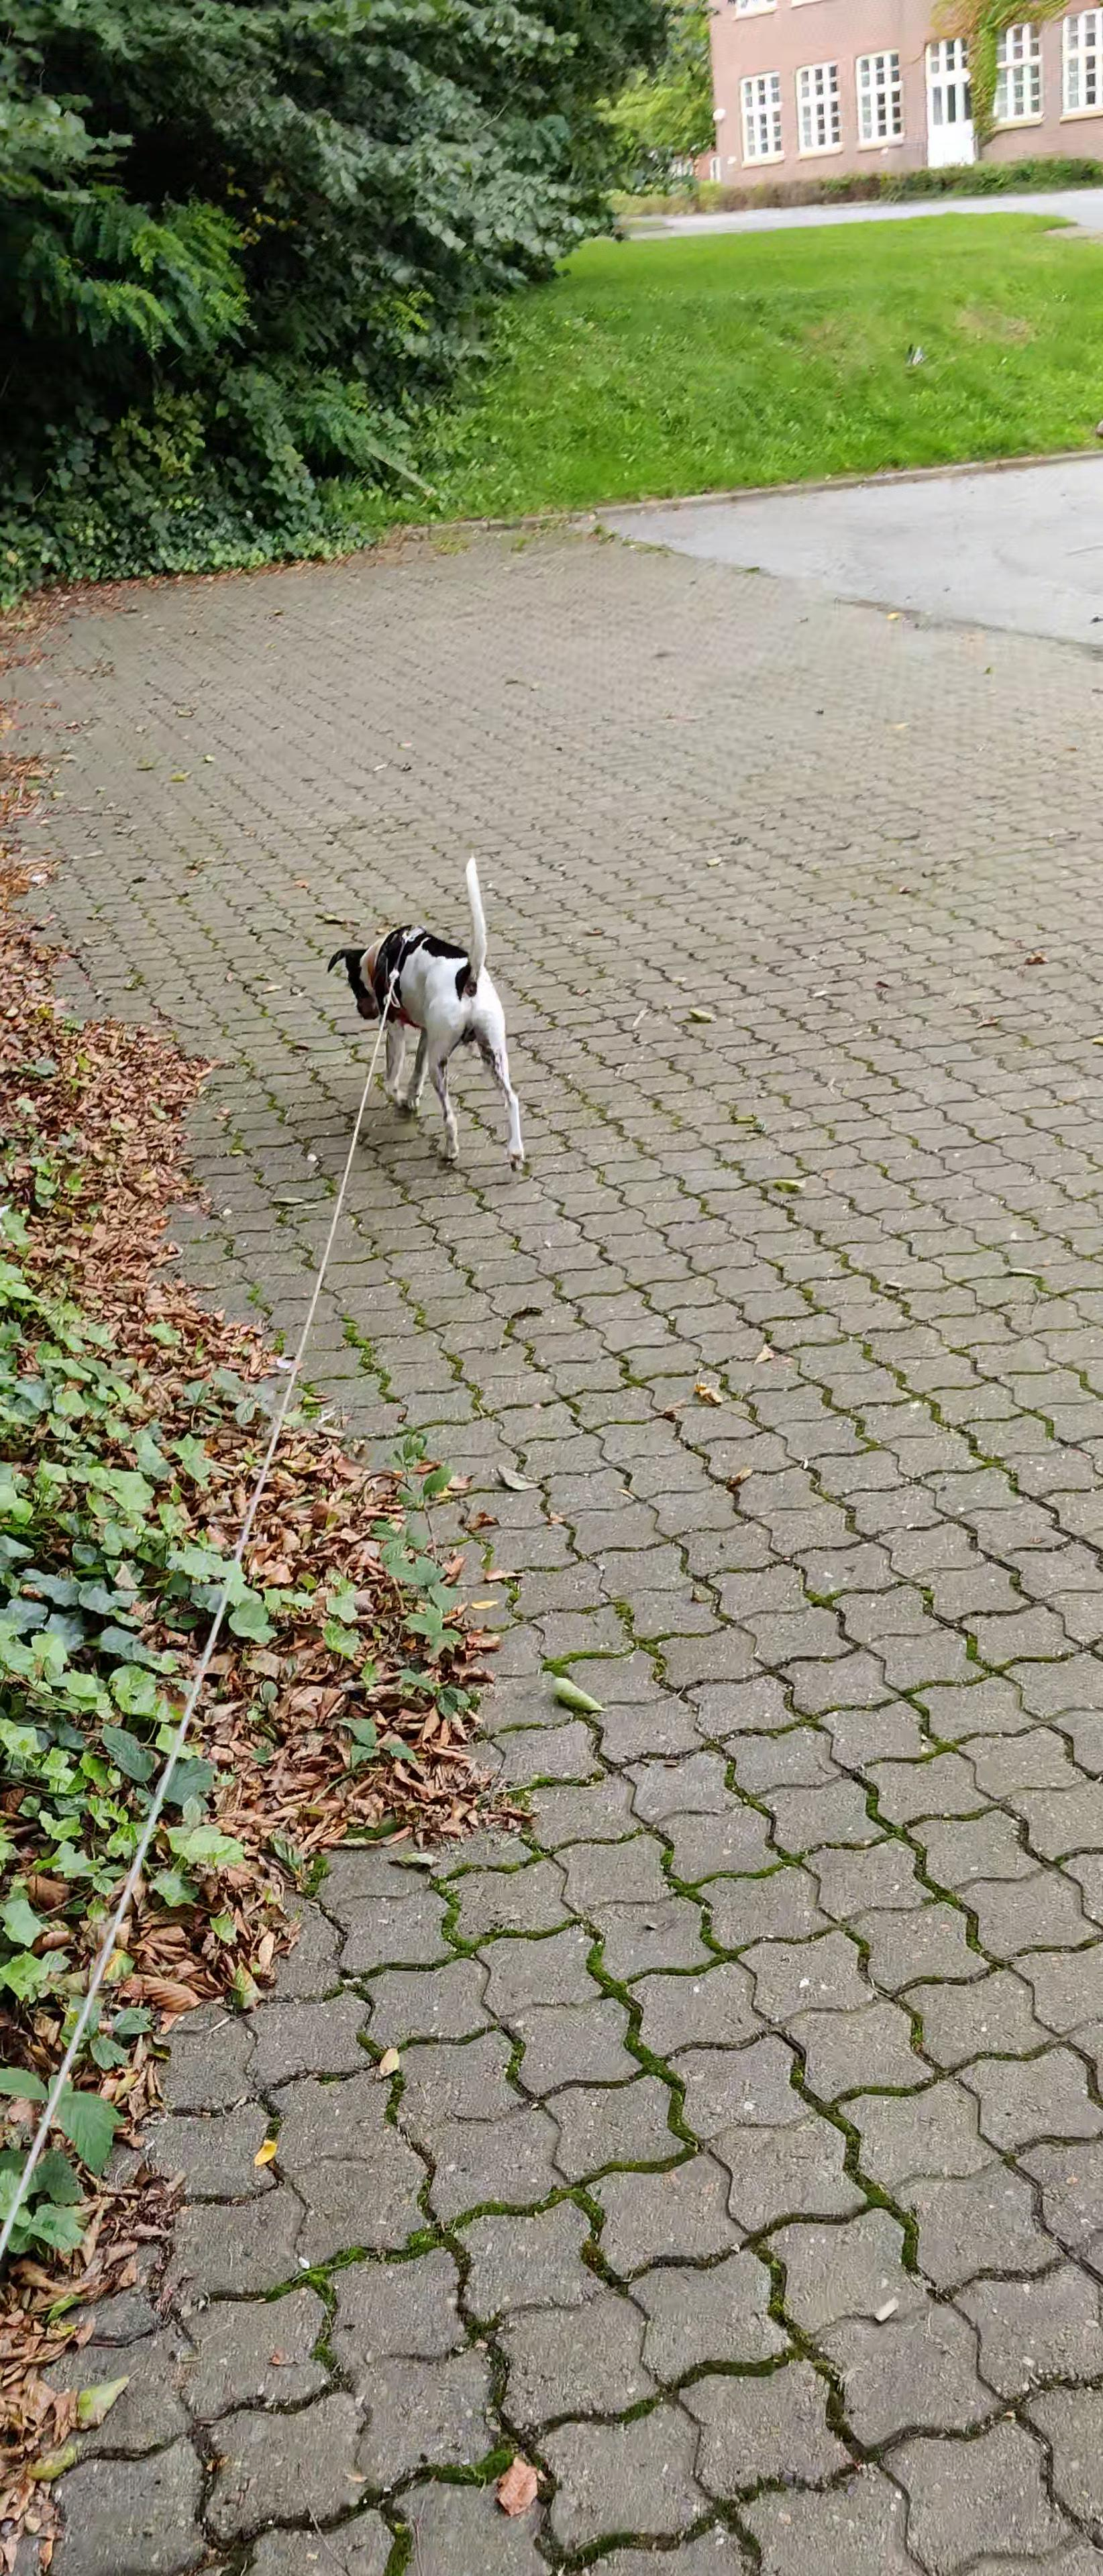Dog: (321, 849, 533, 1180)
